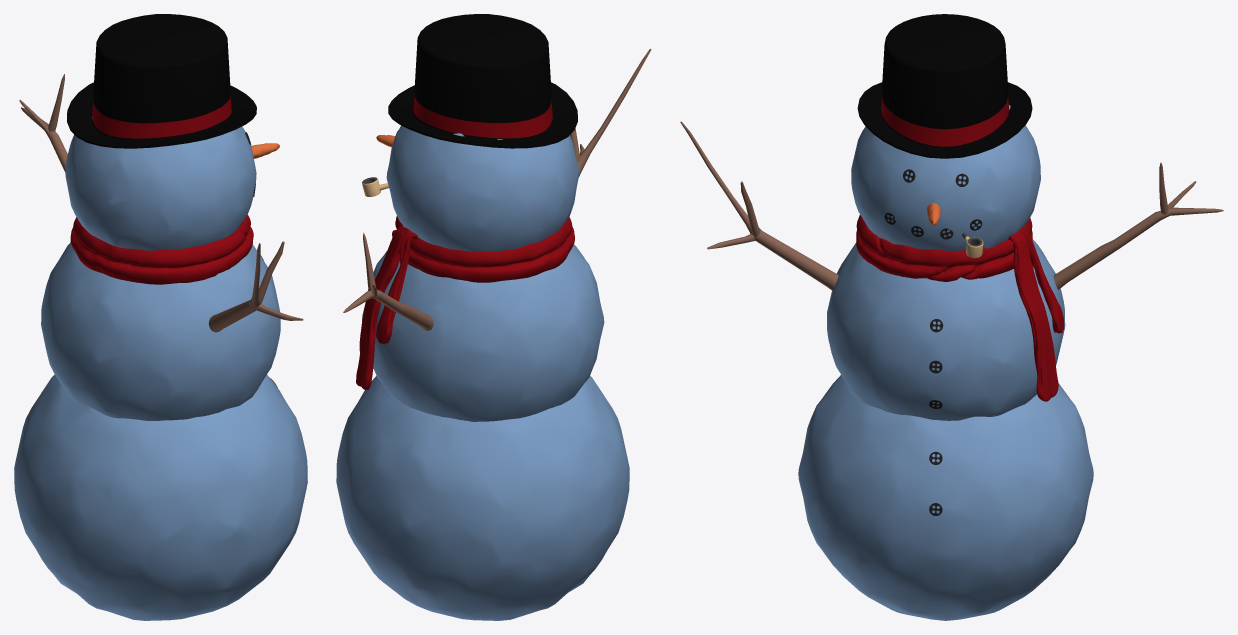
Rendered from simple_snowman.glb.
3 views of the same model, side by side, from view 1: azimuth 30°, elevation 25°; view 2: azimuth 150°, elevation 25°; view 3: azimuth 270°, elevation 25° (orthographic).
Visible parts, largest first — view 1: Object_10, Object_11, Object_4, Object_9, Object_3; view 2: Object_10, Object_11, Object_4, Object_9, Object_3; view 3: Object_10, Object_11, Object_4, Object_9, Object_3, Object_12.
Part boxes in pixels (x1,y1,x2,y2): Object_10: (14,116,307,620); Object_11: (67,14,256,148); Object_4: (70,215,253,284); Object_9: (19,74,303,332); Object_3: (92,95,231,138); Object_10: (336,126,629,620); Object_11: (388,14,577,148); Object_4: (356,216,574,389); Object_9: (343,49,651,330); Object_3: (413,93,552,138); Object_10: (798,105,1093,620); Object_11: (857,14,1032,158); Object_4: (856,215,1063,401); Object_9: (680,121,1223,290); Object_3: (881,97,1009,146); Object_12: (884,169,981,515).
Size of the model in its own units: 2 by 4.36 by 3.78.
